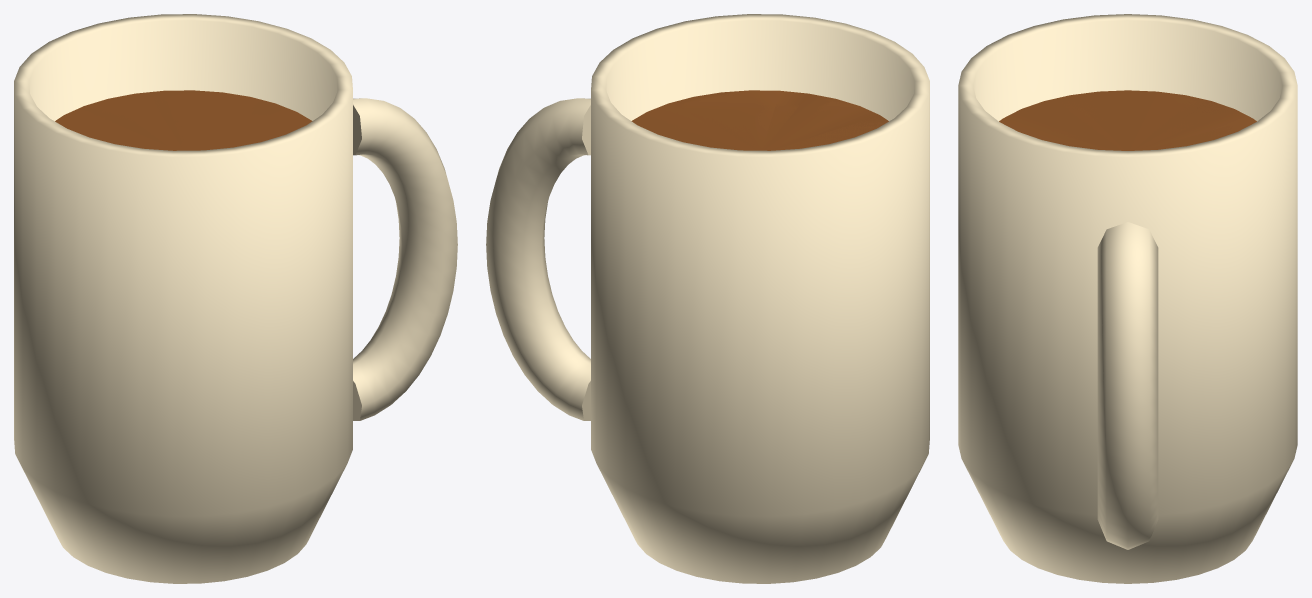
The model's file is sweet-apple-acres-cider.glb.
3 views of the same model, side by side, from view 1: azimuth 30°, elevation 25°; view 2: azimuth 150°, elevation 25°; view 3: azimuth 270°, elevation 25° (orthographic).
Visible parts, largest first — view 1: container_cup, container_handle, edible_drink; view 2: container_cup, container_handle, edible_drink; view 3: container_cup, container_handle, edible_drink.
Boxes of the visible parts, x1,y1,x2,y2 form: container_cup: [14, 14, 352, 583]; container_handle: [353, 98, 457, 420]; edible_drink: [55, 90, 312, 150]; container_cup: [591, 14, 929, 583]; container_handle: [486, 98, 590, 420]; edible_drink: [631, 90, 888, 150]; container_cup: [958, 14, 1297, 583]; container_handle: [1097, 222, 1158, 549]; edible_drink: [999, 90, 1256, 150].
Size of the model in its own units: 0.128 by 0.13 by 0.09.
